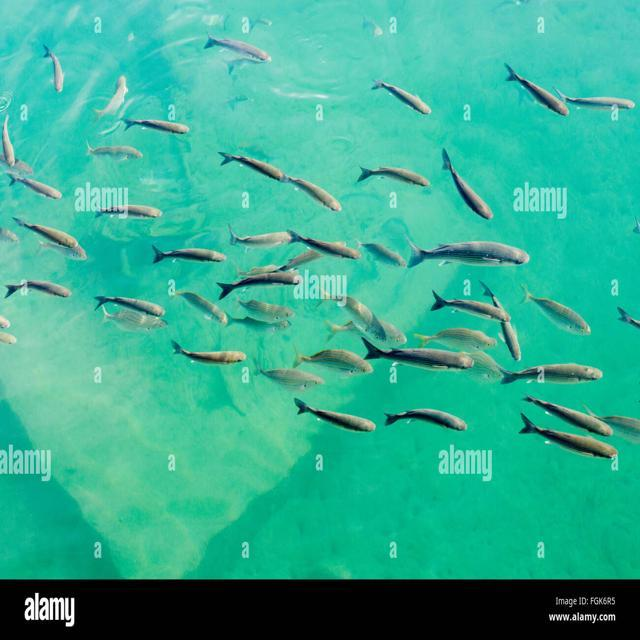fish: (410, 234, 530, 277), (521, 412, 616, 459), (476, 273, 523, 365), (519, 283, 594, 336), (441, 148, 495, 221), (522, 395, 614, 437), (319, 286, 387, 340), (506, 63, 568, 118), (365, 341, 472, 369), (296, 397, 376, 433), (496, 361, 605, 387), (14, 217, 85, 255), (384, 407, 467, 439), (217, 270, 301, 301), (282, 173, 342, 213), (373, 79, 434, 117), (204, 33, 270, 68), (429, 292, 510, 320), (221, 152, 286, 185), (258, 361, 325, 393), (322, 320, 405, 344), (557, 85, 635, 110), (591, 408, 640, 447), (294, 348, 370, 373), (286, 234, 361, 259), (176, 288, 229, 322), (411, 327, 491, 349), (174, 339, 244, 364), (99, 303, 166, 329), (94, 71, 127, 121), (150, 243, 224, 265), (362, 165, 431, 188), (93, 290, 163, 312), (124, 116, 190, 138), (5, 175, 63, 200), (40, 42, 68, 93), (240, 299, 294, 324), (94, 202, 164, 221), (4, 279, 74, 298), (226, 228, 292, 245), (363, 243, 405, 269), (84, 142, 144, 160), (0, 112, 16, 166), (618, 308, 640, 344), (0, 158, 39, 173), (0, 229, 21, 245), (0, 331, 17, 345), (0, 317, 12, 329)
